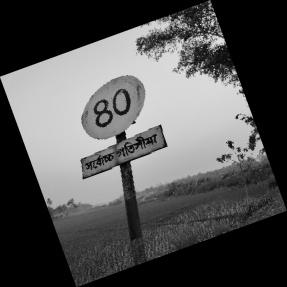Speed-limit: (78, 72, 165, 180)
